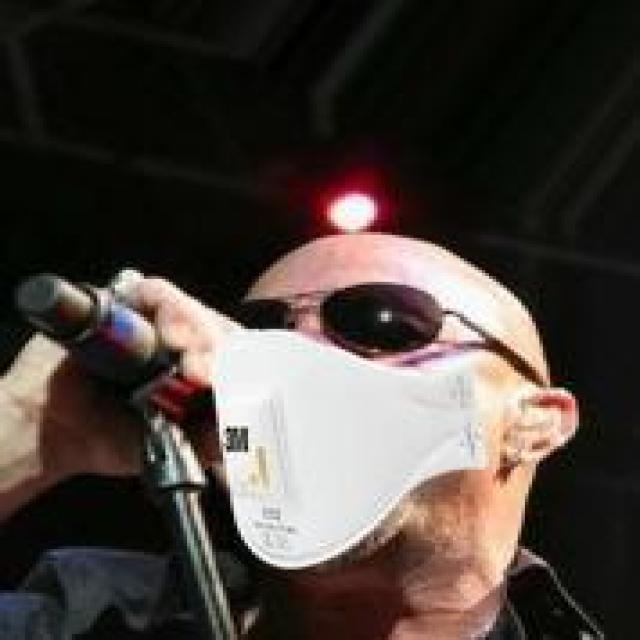mask: (187, 167, 590, 564)
